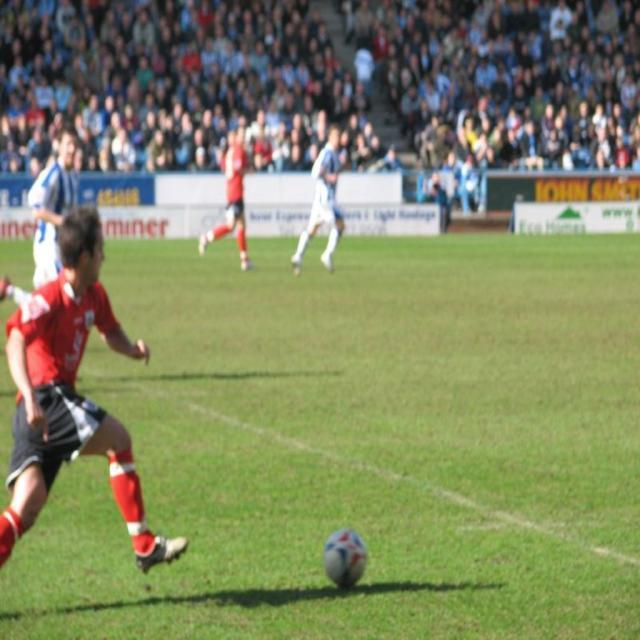football: (308, 524, 399, 593)
